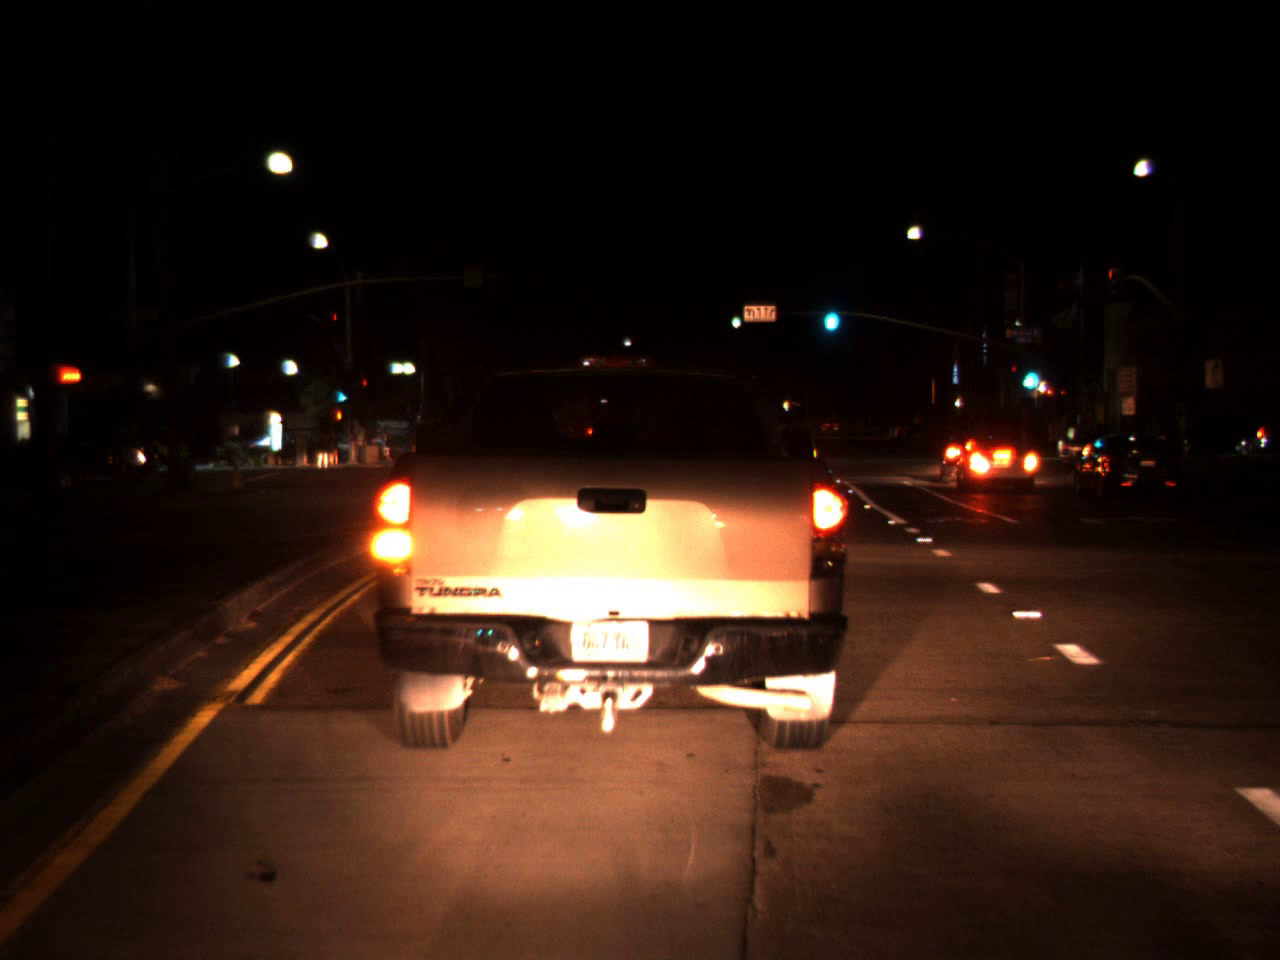go: (818, 290, 841, 338), (1020, 353, 1041, 392), (331, 374, 350, 407), (728, 309, 740, 327)
